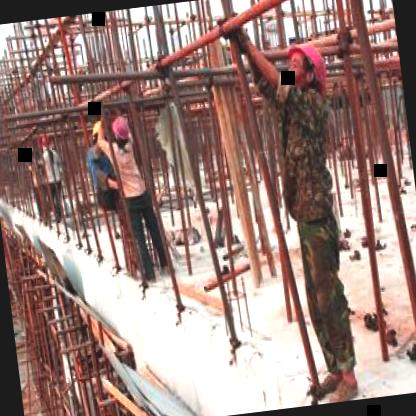helmet: (282, 37, 324, 86), (108, 113, 134, 148), (89, 118, 108, 149)
